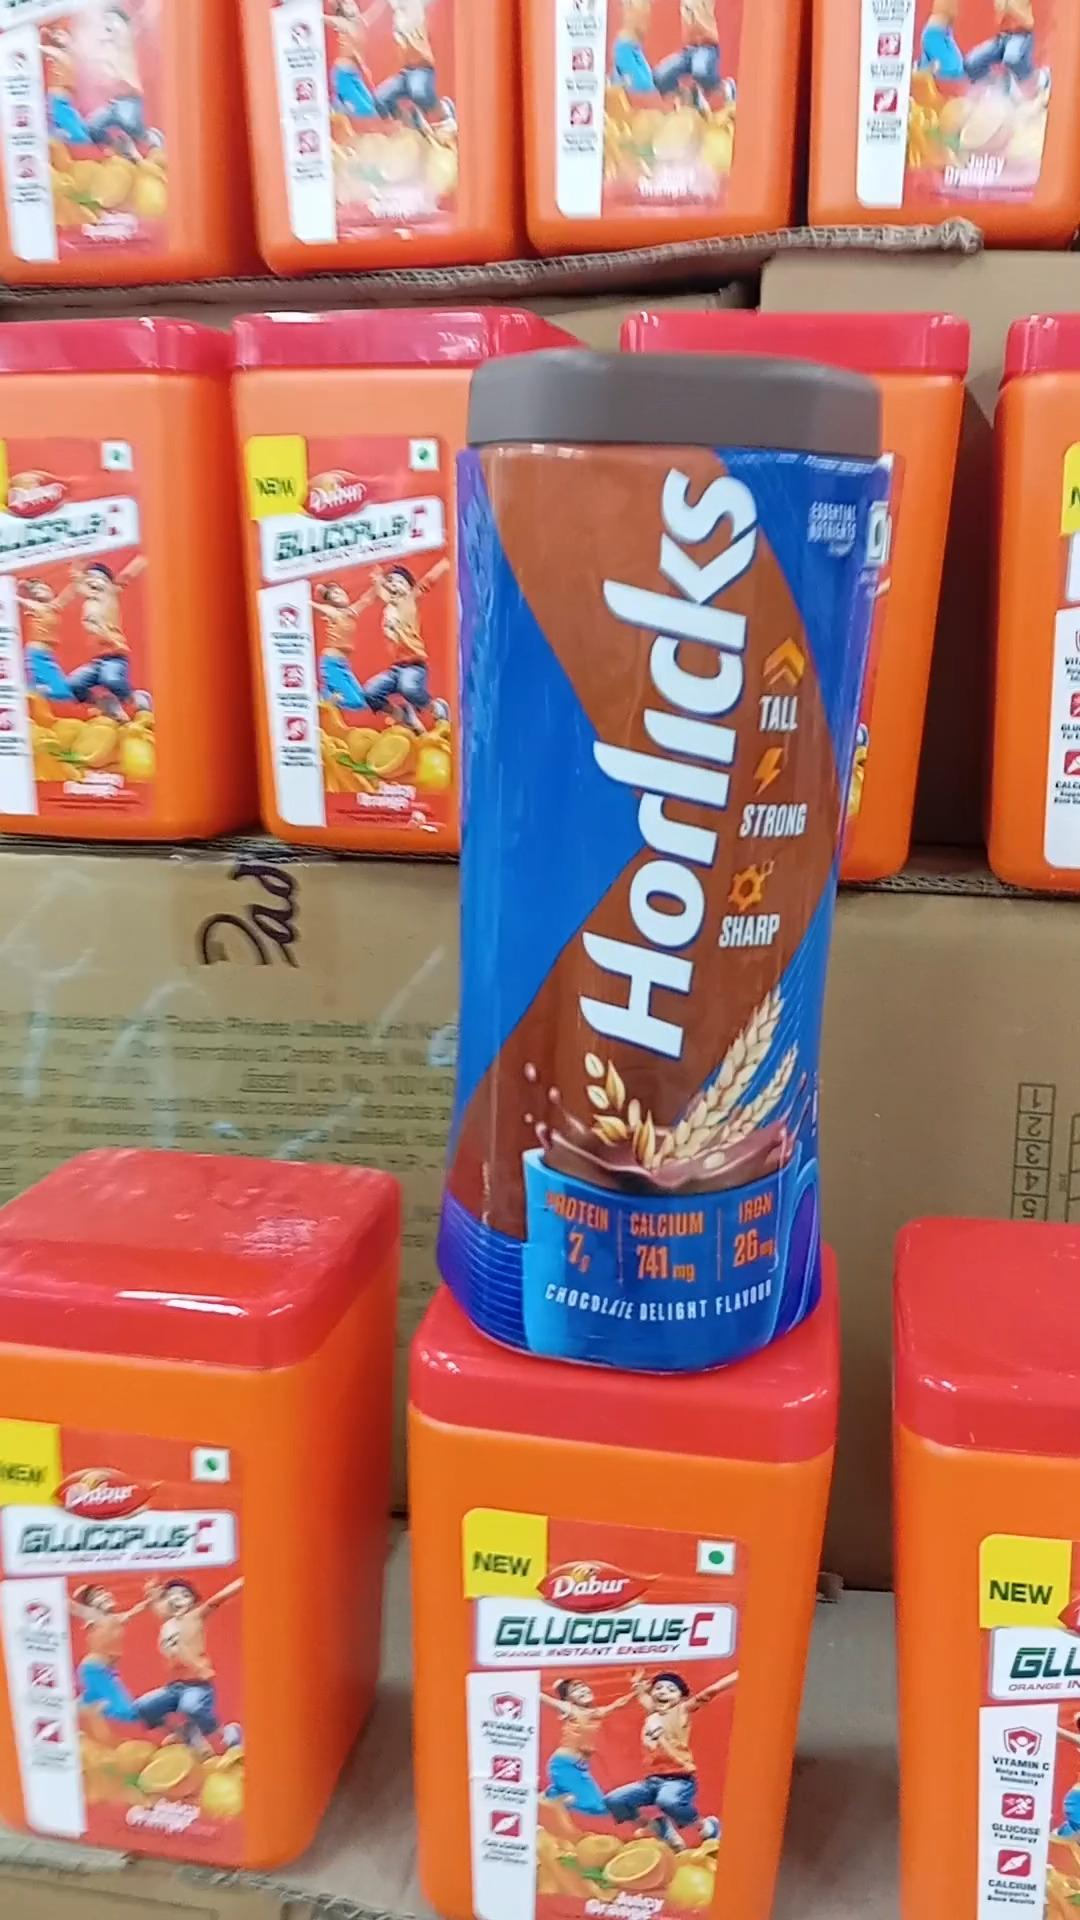HORLICK_CHOCOLATE_1_KG_JAR: (446, 353, 902, 1382)
